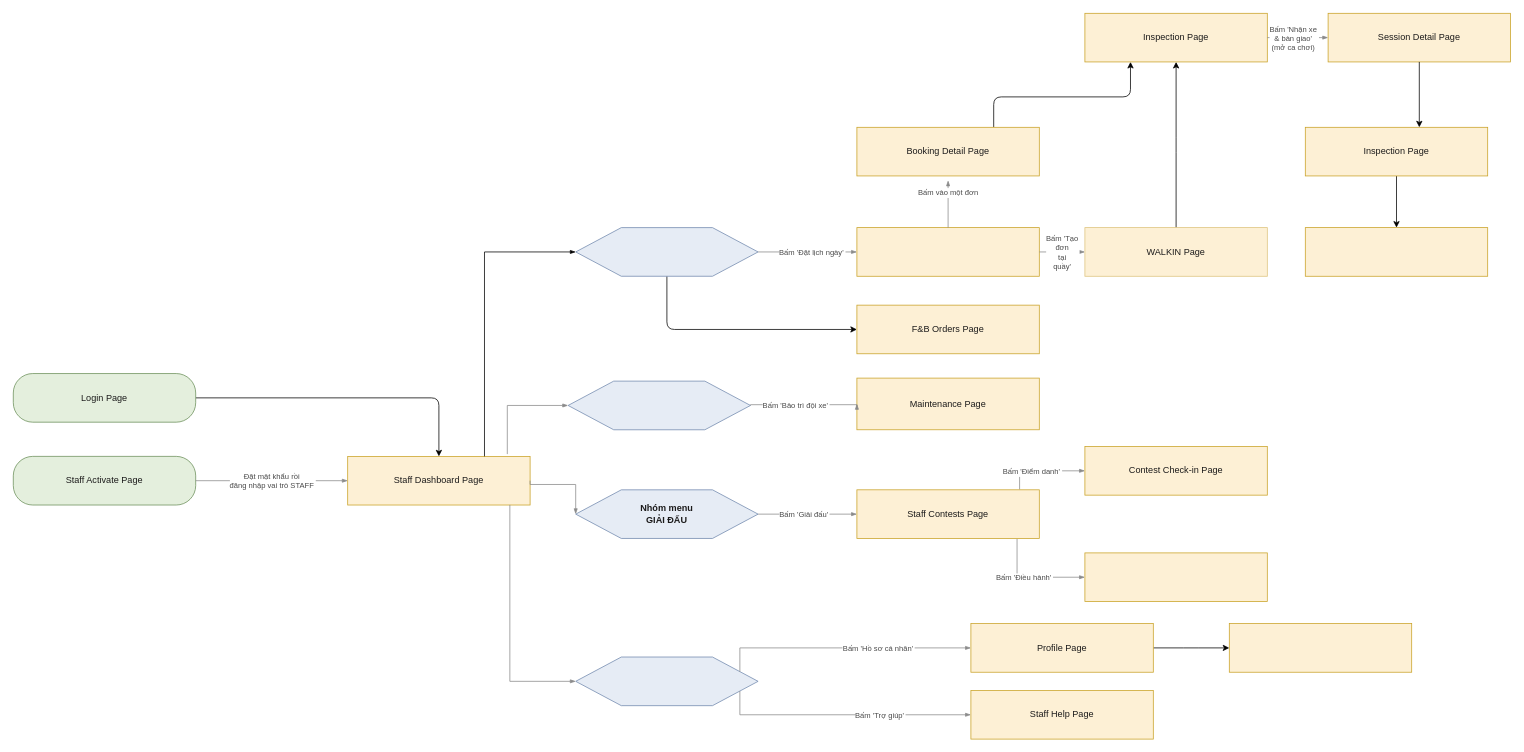
This 1524x752 diagram has some shape labels left out. Here are the shapes that lost their labels. From the top down, the centre of each, then its label:
point (666, 251): Nhóm menu VẬN HÀNH
point (947, 251): Today Bookings Page
point (1396, 251): Checkout Summary Page
point (658, 405): Nhóm menu ĐỘI XE & QUẦY
point (1175, 577): Contest Runtime Page
point (1320, 647): Đổi mật khẩu
point (666, 681): Nhóm menu TÀI KHOẢN
